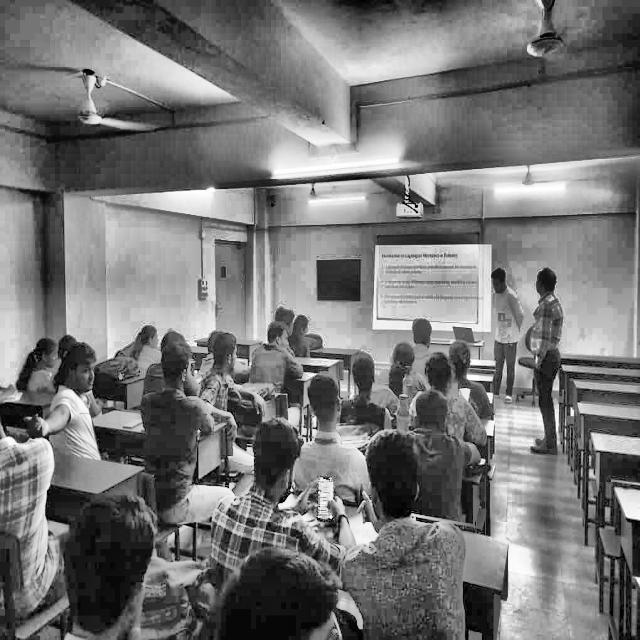Focus: (345, 334, 501, 484), (517, 256, 640, 438), (146, 336, 243, 449), (471, 262, 568, 328), (258, 303, 309, 390)
Not Focus: (234, 423, 350, 613), (354, 403, 448, 621), (35, 340, 102, 424)
